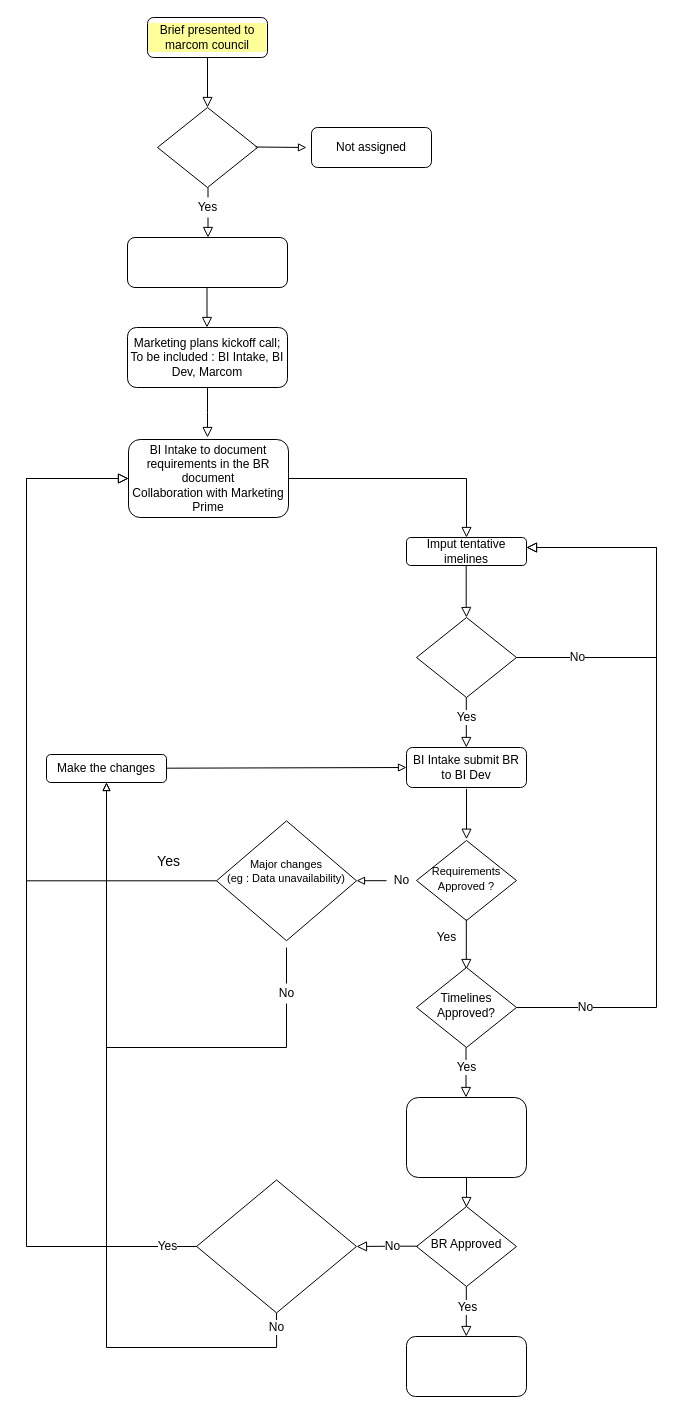
Some shapes in this 684 by 1414 pixel diagram are drawn without their labels. The box of each missing label's shape, as (x1, y1, x2, y2) in pixels:
Approved: (156, 106, 258, 188)
Assigned to a BI Intake, a BI Dev and a Marcom prime: (126, 236, 288, 288)
BR Lock down - FYI email to stakeholders and Directors: (406, 1336, 526, 1396)
If SMS - Is there space in the SMS calender?: (416, 616, 516, 698)
Major changes (timelines or adding complexity to the campaign): (196, 1179, 356, 1313)
Submit finalized BR to Stakeholders: - Marketing; - Marcom; - Contact strategy: (406, 1096, 526, 1178)
